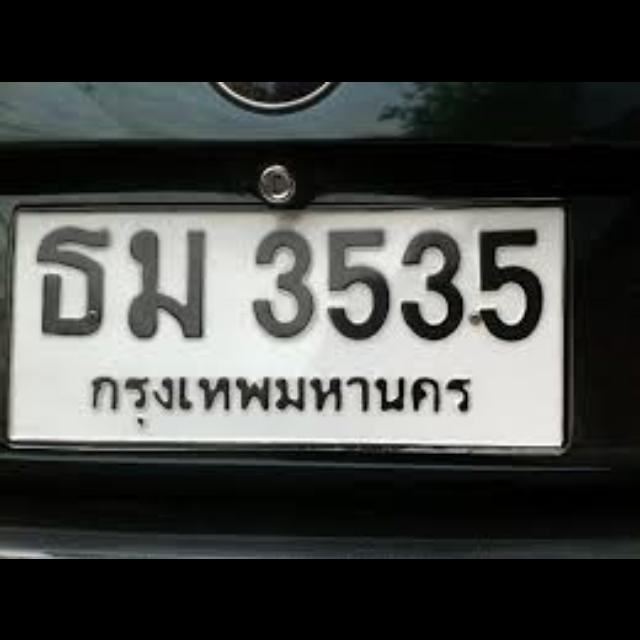licenseplate: (0, 191, 574, 457)
